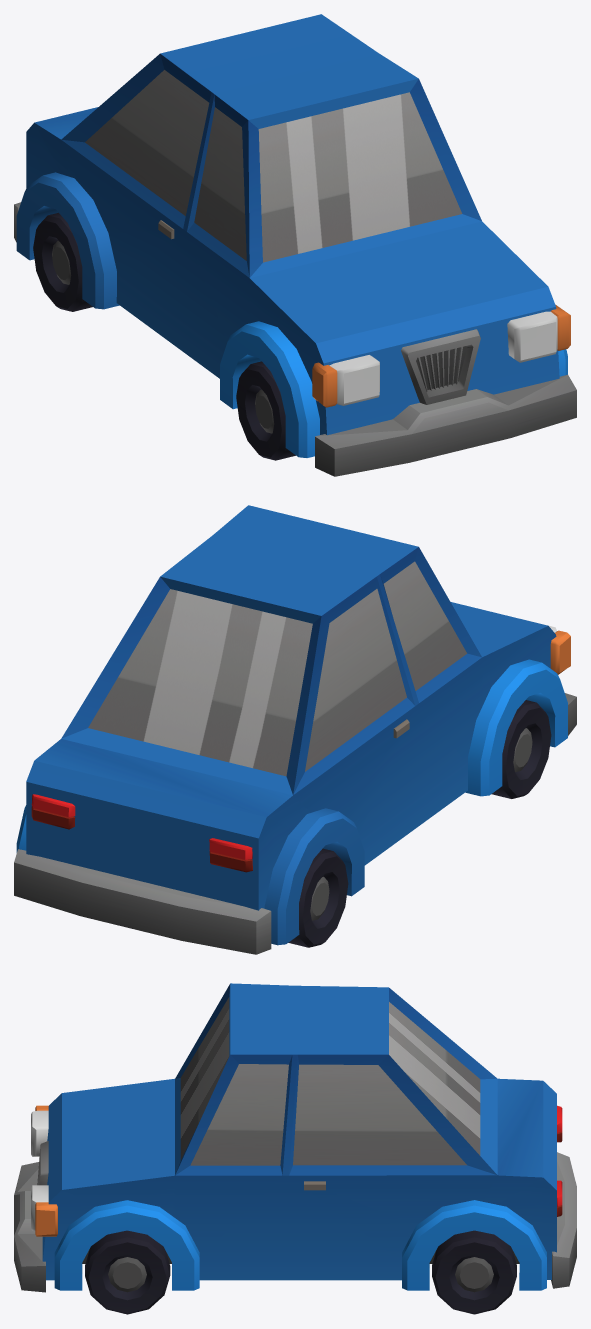
File: Car_4_2.fbx
3 renders of one model, top to bottom at view 1: azimuth 30°, elevation 25°; view 2: azimuth 150°, elevation 25°; view 3: azimuth 270°, elevation 25°, orthographic. The views are drawn at different scales.
Parts seen in each view (by area): view 1: Car_4_2, BWhel_FR, BWhel_BR; view 2: Car_4_2, BWhel_BR, BWhel_FR; view 3: Car_4_2, BWhel_FL, BWhel_BL.
Part boxes in pixels (x1,y1,x2,y2): Car_4_2: (14,14,576,476); BWhel_FR: (236,361,295,460); BWhel_BR: (33,212,92,311); Car_4_2: (14,505,576,954); BWhel_BR: (288,848,348,947); BWhel_FR: (491,700,551,798); Car_4_2: (14,983,576,1292); BWhel_FL: (85,1230,170,1314); BWhel_BL: (432,1230,516,1314).
Size of the model in its own units: 1.09 by 1.09 by 2.3.
